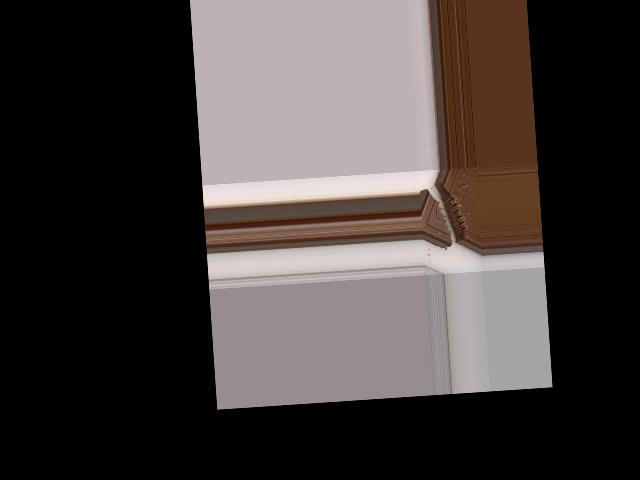chocolate: (417, 167, 481, 260)
